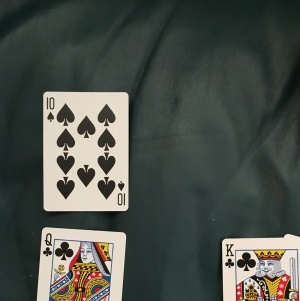card: (42, 88, 131, 213)
